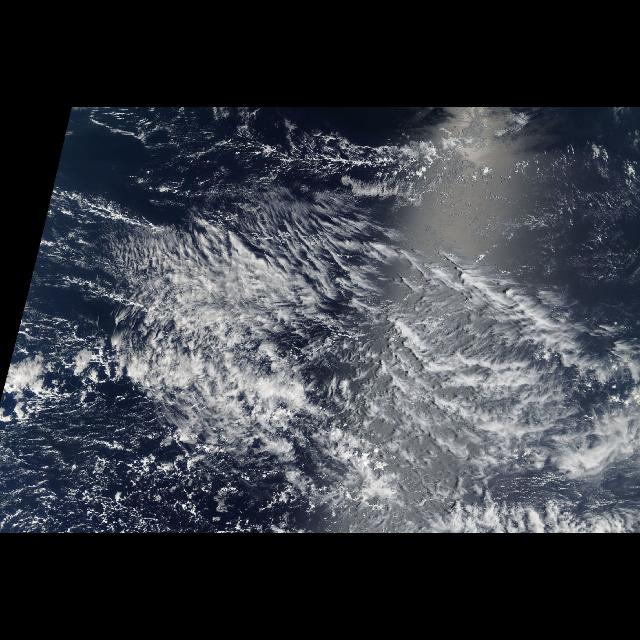Gravel: (2, 330, 118, 528), (123, 433, 304, 531)
